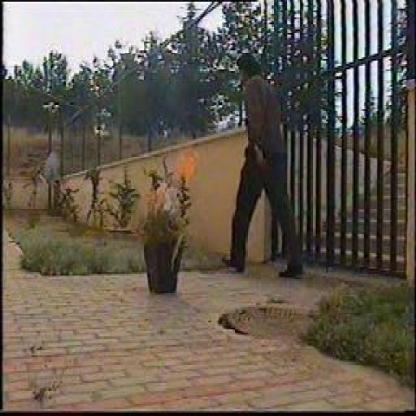fire: (166, 138, 196, 188)
